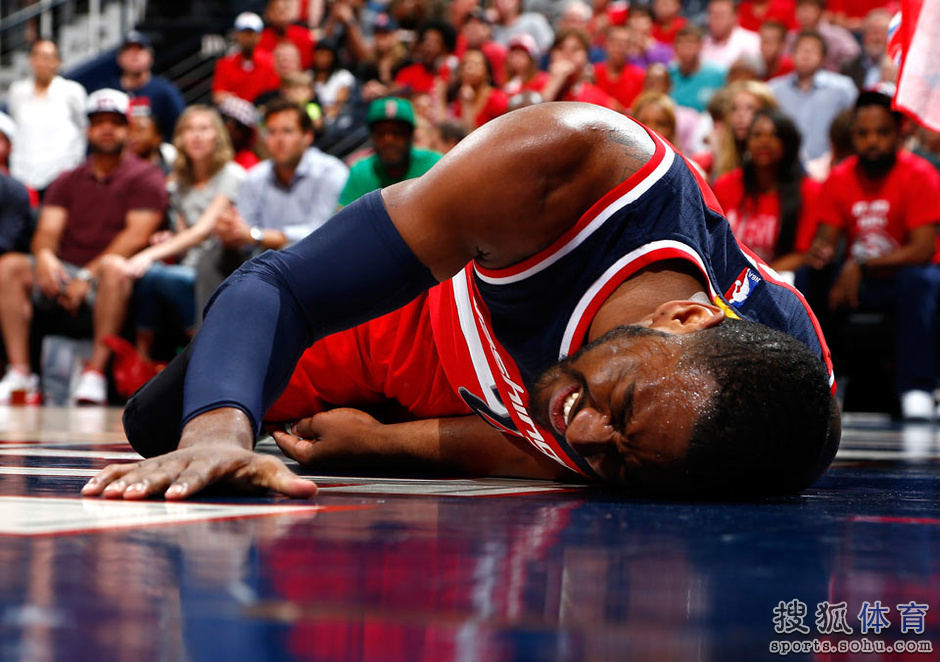10+: (2, 1, 940, 509)
down: (74, 93, 883, 510)
